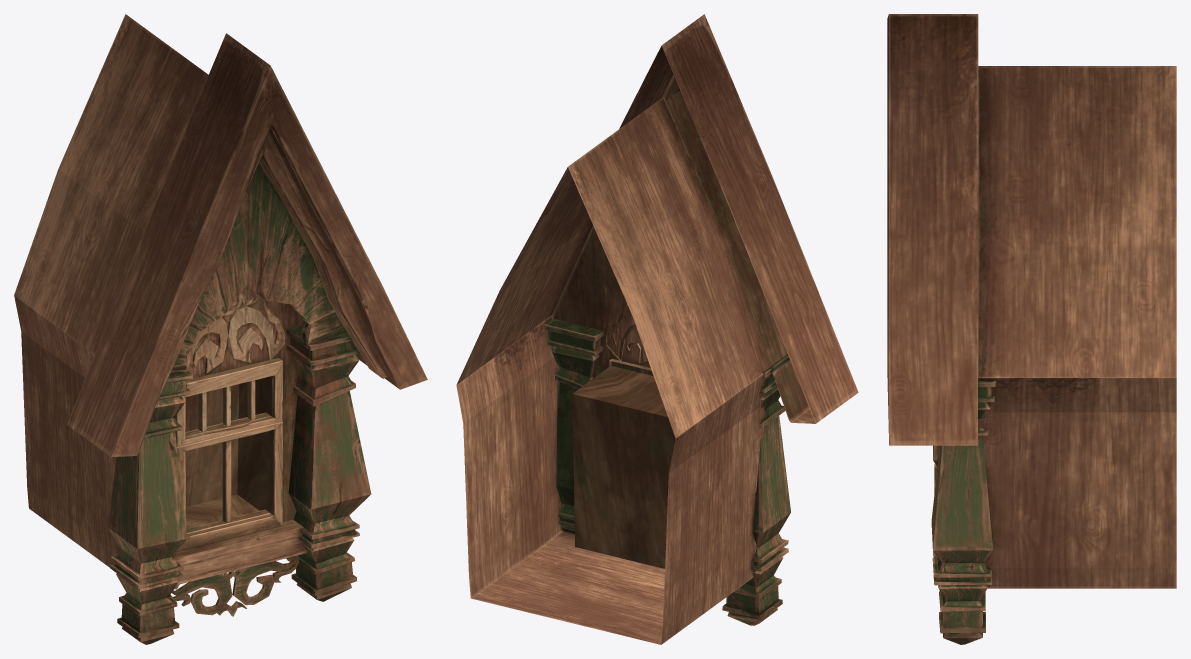
File: SM_DormWindow.fbx
The picture shows the model from 3 angles, left to right: view 1: azimuth 30°, elevation 25°; view 2: azimuth 150°, elevation 25°; view 3: azimuth 270°, elevation 25°; orthographic projection. The views are drawn at different scales.
Parts seen in each view (by area): view 1: SM_DormWindow_LOD0; view 2: SM_DormWindow_LOD0; view 3: SM_DormWindow_LOD0.
Boxes of the visible parts, x1,y1,x2,y2 form: SM_DormWindow_LOD0: [14, 14, 427, 644]; SM_DormWindow_LOD0: [456, 14, 858, 644]; SM_DormWindow_LOD0: [887, 14, 1176, 644].
Bounding box in the file's own units: 258 × 203 × 455.
1 material, 1 textured.
